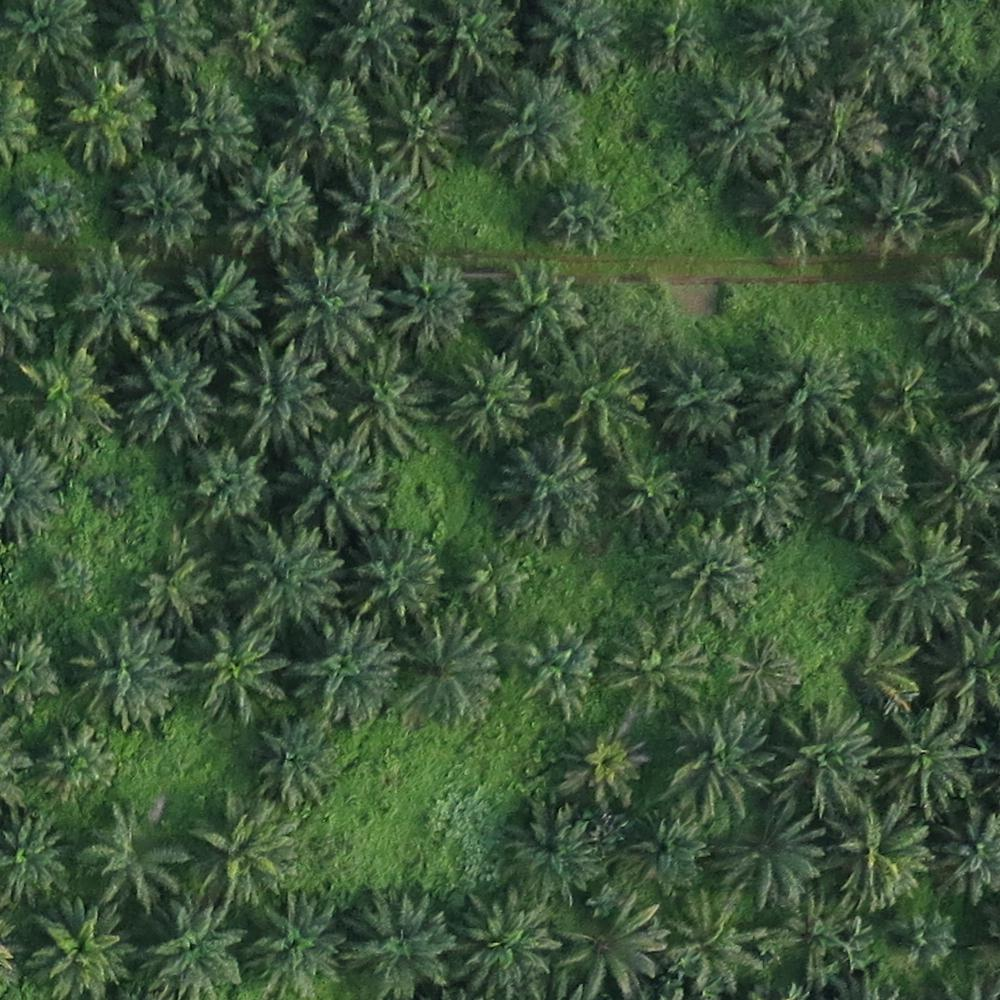Palm: (858, 528, 971, 640), (222, 347, 332, 456), (224, 522, 335, 628), (341, 892, 454, 995), (744, 347, 856, 450), (449, 890, 556, 996), (778, 704, 877, 817), (294, 617, 398, 724), (186, 794, 290, 901), (490, 440, 598, 542), (879, 701, 979, 811), (822, 804, 927, 908), (68, 624, 175, 725), (653, 526, 761, 626), (670, 716, 771, 822), (73, 804, 180, 904), (705, 439, 806, 543), (183, 626, 287, 727), (477, 75, 577, 179), (272, 258, 378, 356), (340, 352, 438, 458), (46, 67, 150, 165), (401, 616, 496, 722), (281, 441, 384, 536), (483, 260, 583, 357), (558, 905, 665, 995), (30, 899, 128, 997), (668, 892, 767, 989), (134, 906, 240, 996), (270, 72, 366, 169), (71, 250, 166, 348), (725, 809, 823, 904), (121, 350, 217, 446), (339, 532, 437, 626), (605, 623, 707, 713), (18, 356, 115, 450), (327, 158, 421, 255), (501, 799, 598, 893), (371, 82, 466, 176), (695, 82, 788, 178), (551, 356, 649, 447), (169, 252, 262, 346), (245, 902, 339, 995), (379, 256, 472, 349), (444, 355, 534, 449), (744, 2, 838, 90), (228, 167, 314, 260), (248, 723, 338, 811), (115, 163, 208, 248), (748, 172, 848, 251), (913, 261, 999, 351), (651, 357, 738, 445), (849, 165, 936, 252), (820, 443, 905, 532), (170, 83, 257, 169), (913, 441, 999, 528), (427, 1, 516, 84), (129, 548, 218, 631), (532, 1, 621, 82), (555, 724, 645, 802), (518, 624, 599, 709), (608, 458, 686, 540), (542, 179, 622, 257), (627, 815, 710, 890), (189, 451, 265, 528), (870, 363, 945, 440), (723, 634, 800, 704)
